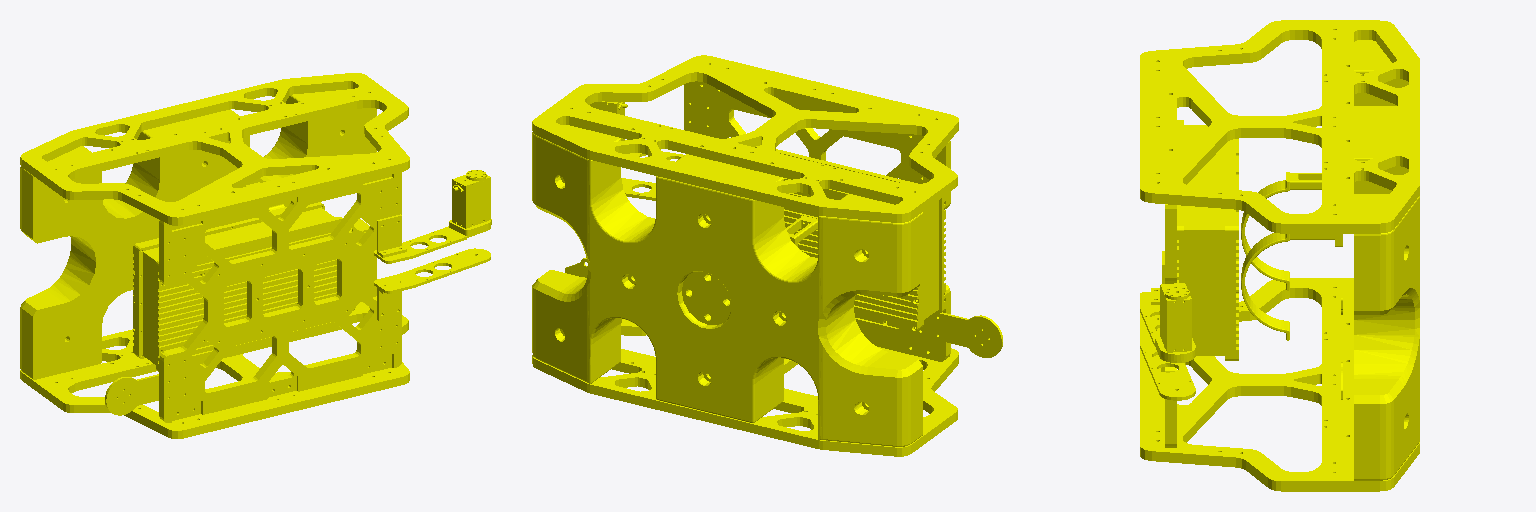
URDF robot description (underwater_robot):
<?xml version="1.0"?>
<robot name="underwater_robot">
  <link name="base_link">
    <inertial>
      <origin xyz="-0.003888 0.214798 0.000477" rpy="0 0 0" />
      <mass value="21.96117" />
      <inertia ixx="0.238951" ixy="-0.000060" ixz="0.000000" iyy="0.743447" iyz="0.000002" izz="0.621849" />
    </inertial>
    <visual>
      <geometry>
        <mesh filename="package://underwater_robot/meshes/base_link.STL" />
      </geometry>
      <material name="yellow">
        <color rgba="0.988 1 0 1" />
      </material>
    </visual>
    <collision>
      <geometry>
        <mesh filename="package://underwater_robot/meshes/base_link.STL" />
      </geometry>
    </collision>
  </link>
  <gazebo>
    <plugin name="uuv_plugin" filename="libuuv_underwater_object_ros_plugin.so">
      <fluid_density>1028.0</fluid_density>
      <volume>0.05</volume>
      <bbox_height>0.5</bbox_height>
      <bbox_length>1.0</bbox_length>
      <bbox_width>0.8</bbox_width>
      <hydro_model_type>fossen</hydro_model_type>
      <added_mass>
        <x>30</x> <y>30</y> <z>30</z>
        <roll>5</roll> <pitch>5</pitch> <yaw>5</yaw>
      </added_mass>
      <linear_damping>
        <x>15</x> <y>15</y> <z>15</z>
      </linear_damping>
      <angular_damping>
        <x>15</x> <y>15</y> <z>15</z>
      </angular_damping>
      <center_of_buoyancy>
        <x>0</x> <y>0</y> <z>0.05</z>
      </center_of_buoyancy>
      <neutrally_buoyant>false</neutrally_buoyant>
    </plugin>
  </gazebo>
</robot>

--- What the picture shows (computed from the rendered views, not written in the file) ---
3 views of the same robot in one strip: view 1: azimuth 30°, elevation 25°; view 2: azimuth 150°, elevation 25°; view 3: azimuth 270°, elevation 25° (orthographic).
Model underwater_robot with 1 links and 0 joints (none), rooted at base_link, posed every joint at zero.
Visible links, largest first — view 1: base_link; view 2: base_link; view 3: base_link.
Link boxes in pixels (x1,y1,x2,y2): base_link: (20,73,491,438); base_link: (532,55,1002,456); base_link: (1140,20,1419,491).
Bounding box of the posed robot: 0.7243 × 0.38 × 0.4 m (x, y, z).
1 mesh visuals loaded from 1 distinct referenced files (1 binary STL).
